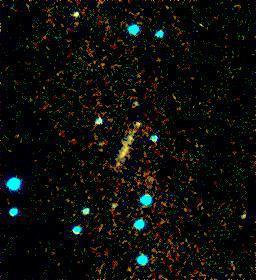star: (122, 107, 152, 137)
